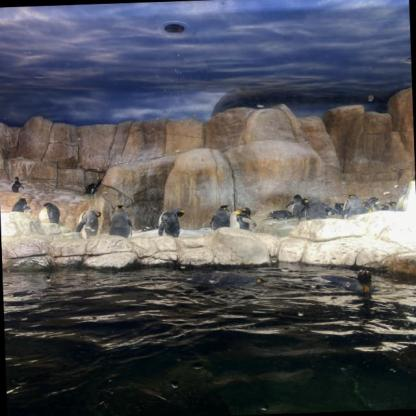penguin: (302, 269, 374, 297), (176, 271, 270, 292), (156, 208, 185, 238), (107, 204, 133, 237), (76, 209, 101, 239), (208, 205, 234, 231), (230, 206, 256, 230), (301, 197, 325, 220), (402, 174, 416, 212), (284, 194, 306, 218), (38, 201, 60, 225), (343, 193, 363, 217), (11, 197, 32, 215), (363, 196, 380, 212), (318, 202, 336, 217), (267, 210, 292, 219), (11, 176, 25, 191), (387, 200, 400, 211), (335, 202, 345, 213)
